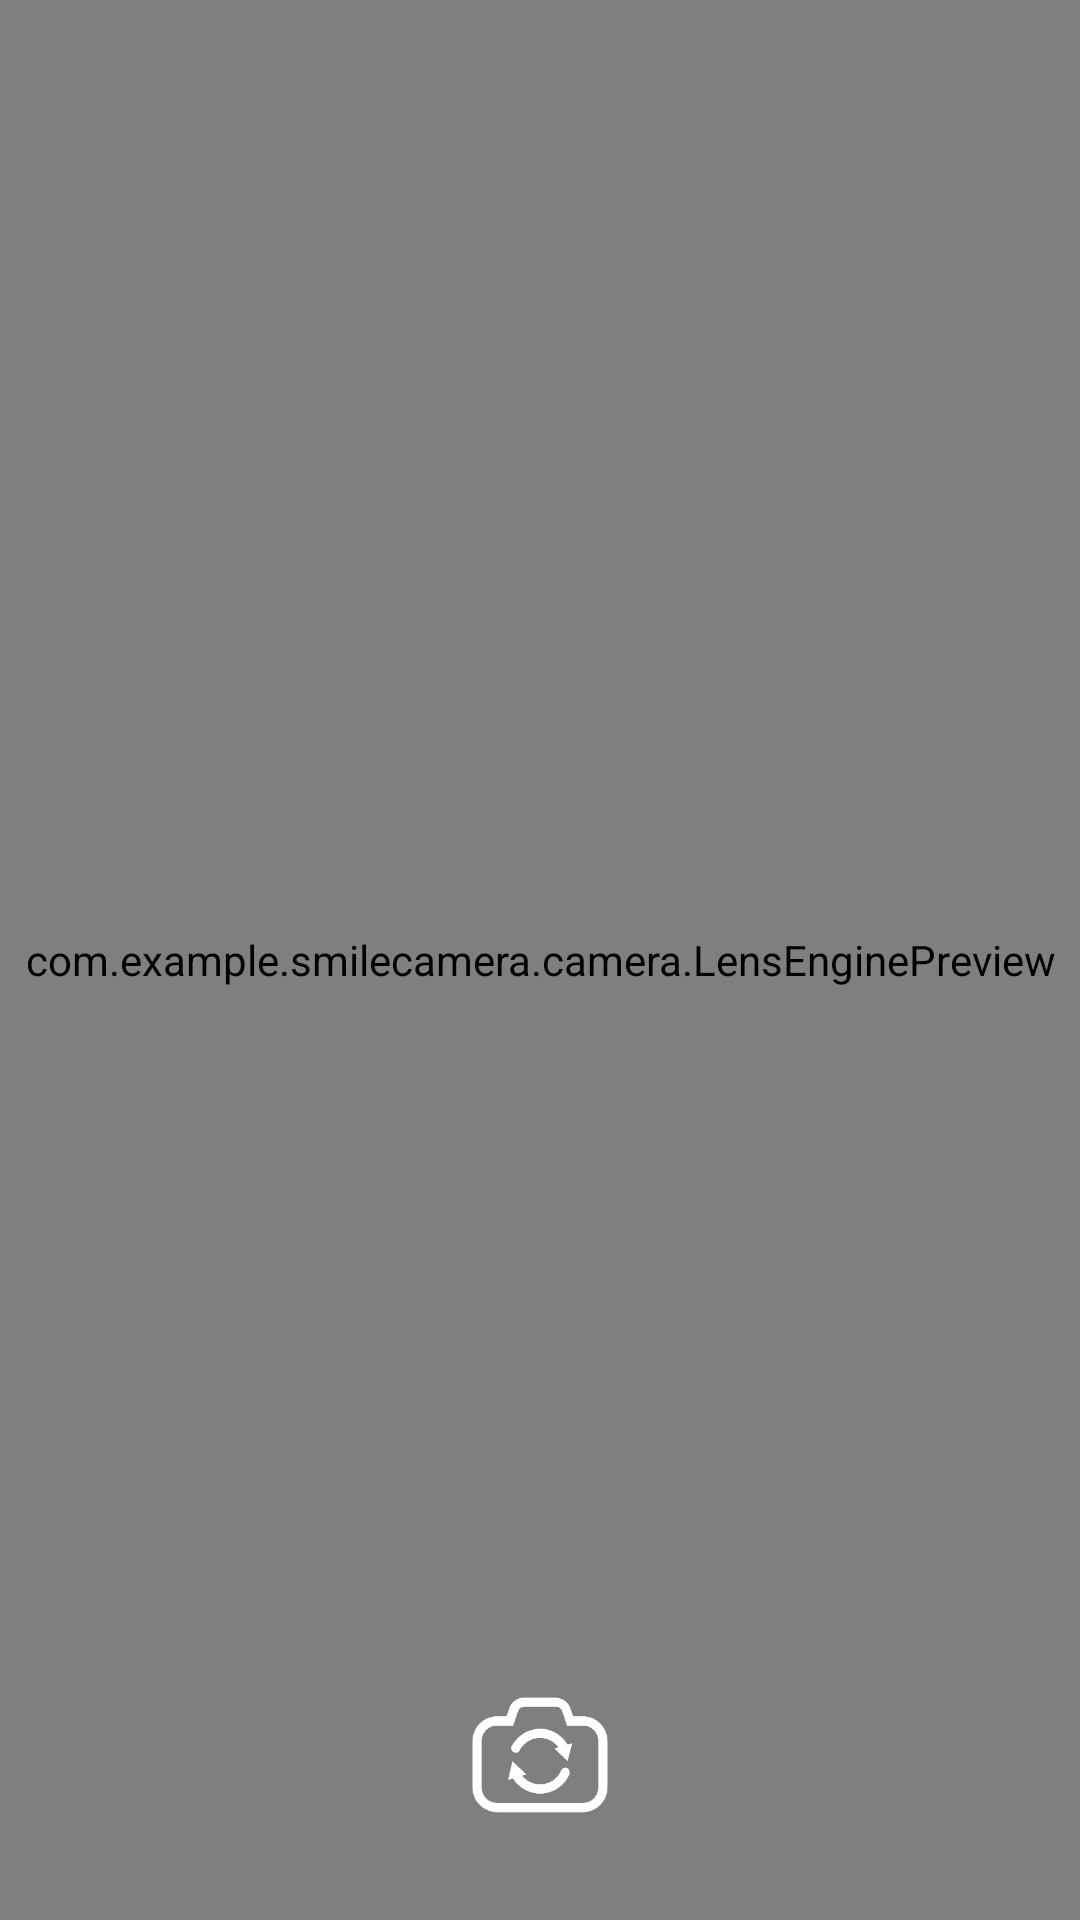

Named icons in this screenshot (1080x1920) and their bounding boxes, (x1, y1, x2, y2):
front switch: (472, 1697, 608, 1813)
